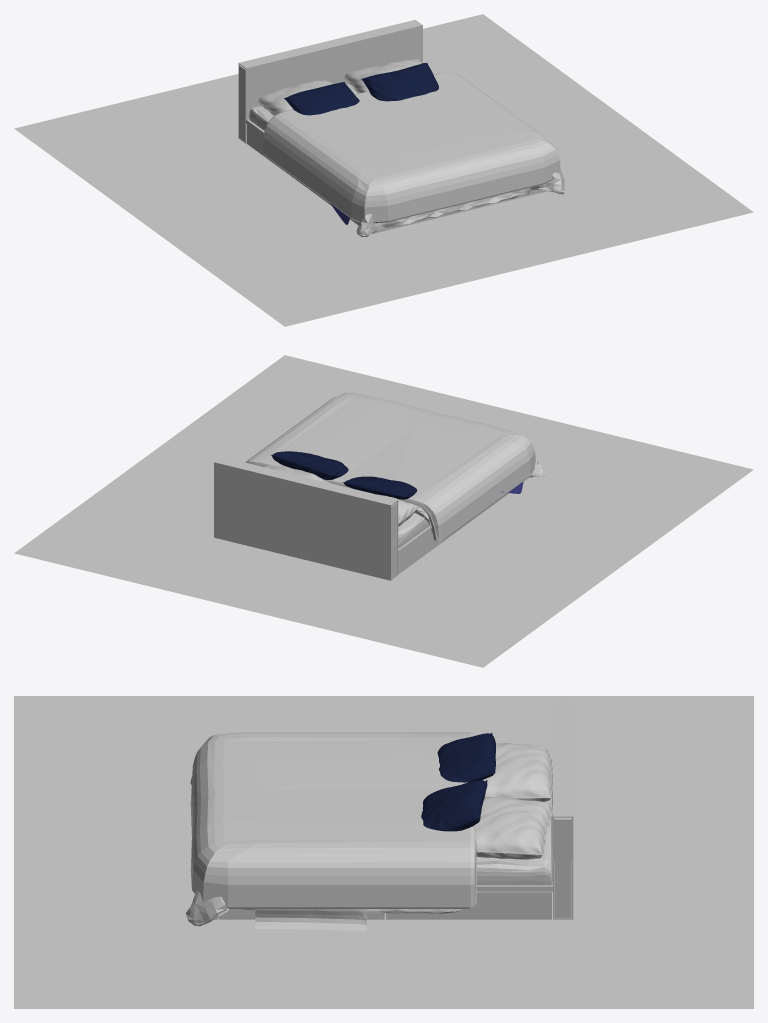
Rendered from dbed.obj.
3 views of the same model, one above another, from view 1: azimuth 30°, elevation 25°; view 2: azimuth 150°, elevation 25°; view 3: azimuth 270°, elevation 25° (orthographic). The views are drawn at different scales.
Parts seen in each view (by area): view 1: Plane.004_Plane.011, Plane_Plane.001, Cube, cushion.002_Plane.005, Plane.001_Plane, cushion.003_Plane.007, cushion_Plane.002, cushion.001_Plane.003; view 2: Plane.004_Plane.011, Plane_Plane.001, Cube, cushion.002_Plane.005, cushion.003_Plane.007, Cube.004; view 3: Plane.004_Plane.011, Plane_Plane.001, Cube, cushion.001_Plane.003, cushion_Plane.002, Plane.003_Plane.010, cushion.002_Plane.005, Cube.004, cushion.003_Plane.007, Cube.001, Plane.001_Plane.
Part boxes in pixels (x1,y1,x2,y2): Plane.004_Plane.011: (14,14,753,326); Plane_Plane.001: (262,72,560,223); Cube: (238,19,546,233); cushion.002_Plane.005: (361,63,438,101); Plane.001_Plane: (356,170,564,236); cushion.003_Plane.007: (284,82,359,115); cushion_Plane.002: (256,80,333,115); cushion.001_Plane.003: (342,59,433,93); Plane.004_Plane.011: (14,355,753,667); Plane_Plane.001: (245,392,535,541); Cube: (214,456,509,580); cushion.002_Plane.005: (271,451,348,479); cushion.003_Plane.007: (342,476,417,499); Cube.004: (398,513,429,548); Plane.004_Plane.011: (14,696,753,1008); Plane_Plane.001: (190,732,476,908); Cube: (215,698,573,919); cushion.001_Plane.003: (472,796,552,859); cushion_Plane.002: (483,743,552,801); Plane.003_Plane.010: (255,909,367,937); cushion.002_Plane.005: (421,780,487,831); Cube.004: (476,770,552,885); cushion.003_Plane.007: (437,733,495,782); Cube.001: (554,817,571,918); Plane.001_Plane: (185,777,462,926).
Bounding box in the file's own units: 22.2 × 3.41 × 22.2.
